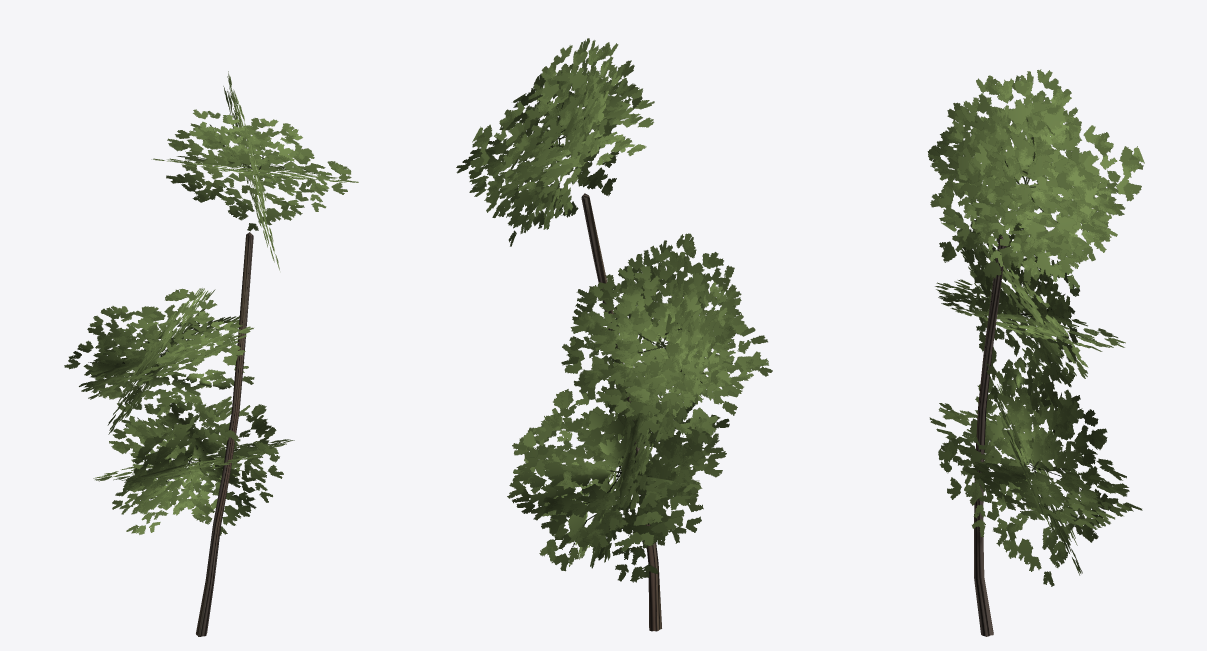
The model's file is seedling-c.lod0.glb.
The picture shows the model from 3 angles, left to right: view 1: azimuth 30°, elevation 25°; view 2: azimuth 150°, elevation 25°; view 3: azimuth 270°, elevation 25°; orthographic projection. The views are drawn at different scales.
Visible parts, largest first — view 1: foliage, bark; view 2: foliage, bark; view 3: foliage, bark.
Boxes of the visible parts, x1,y1,x2,y2 form: foliage: (64,71,358,535); bark: (196,232,253,636); foliage: (456,38,772,582); bark: (581,193,661,631); foliage: (927,69,1144,586); bark: (974,236,1006,636).
Bounding box in the file's own units: 0.2167 × 0.35 × 0.1642.
Materials: 2 (2 with a texture image).
